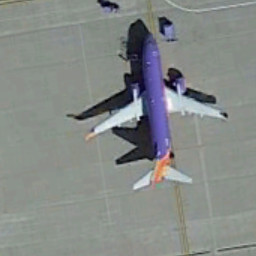Airplane: (74, 22, 237, 195)
